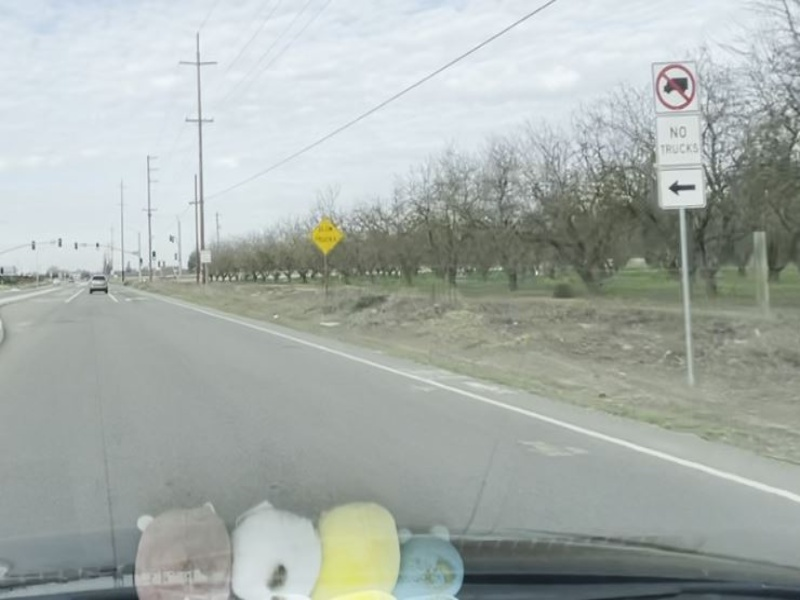no truck sign 1: (646, 61, 703, 116)
no truck sign 2: (652, 114, 703, 167)
slow truck sign: (308, 216, 343, 255)
